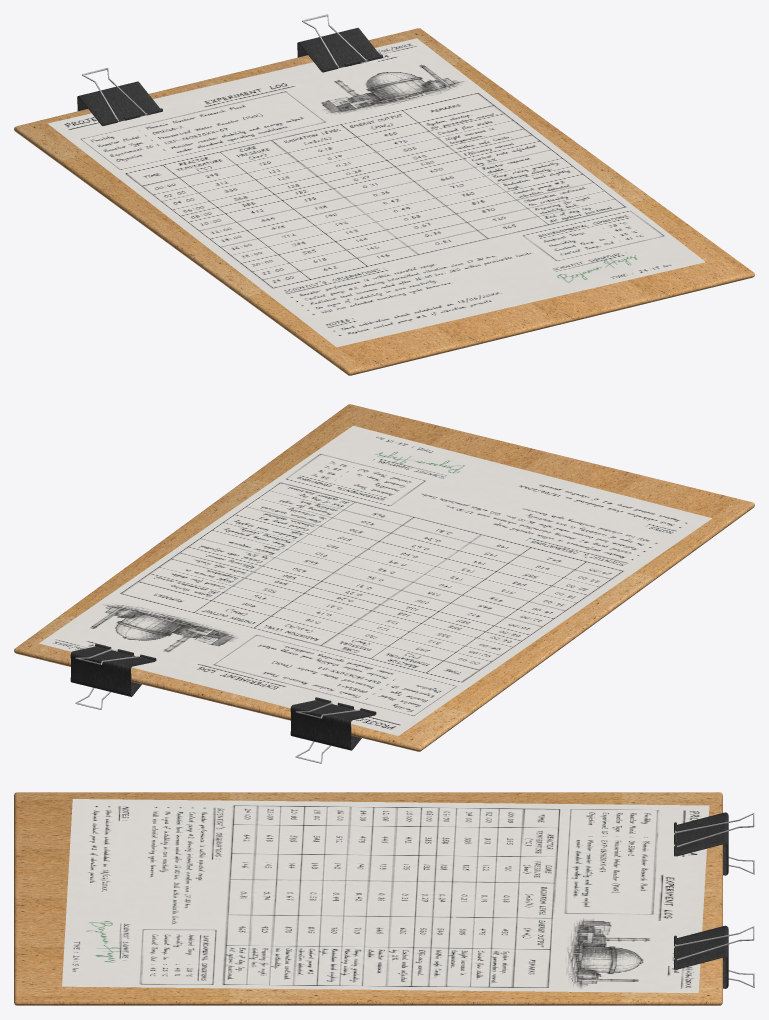
File: ExprimentLogPaperPad.fbx
3 views of the same model, one above another, from view 1: azimuth 30°, elevation 25°; view 2: azimuth 150°, elevation 25°; view 3: azimuth 270°, elevation 25° (orthographic). The views are drawn at different scales.
Visible parts, largest first — view 1: Paper, Pad, Clip2, Clip1; view 2: Paper, Pad, Clip1, Clip2; view 3: Paper, Pad, Clip1, Clip2.
Boxes of the visible parts, <box> form: Paper: <box>48,38,705,347</box>; Pad: <box>14,28,754,375</box>; Clip2: <box>297,28,382,72</box>; Clip1: <box>77,81,162,125</box>; Paper: <box>39,425,711,735</box>; Pad: <box>14,404,754,751</box>; Clip1: <box>290,697,376,750</box>; Clip2: <box>70,643,156,696</box>; Paper: <box>62,799,709,992</box>; Pad: <box>14,792,722,1005</box>; Clip1: <box>674,812,728,875</box>; Clip2: <box>674,925,728,988</box>.
Size of the model in its own units: 33.97 by 3.66 by 50.71.
4 materials, 4 textured.
